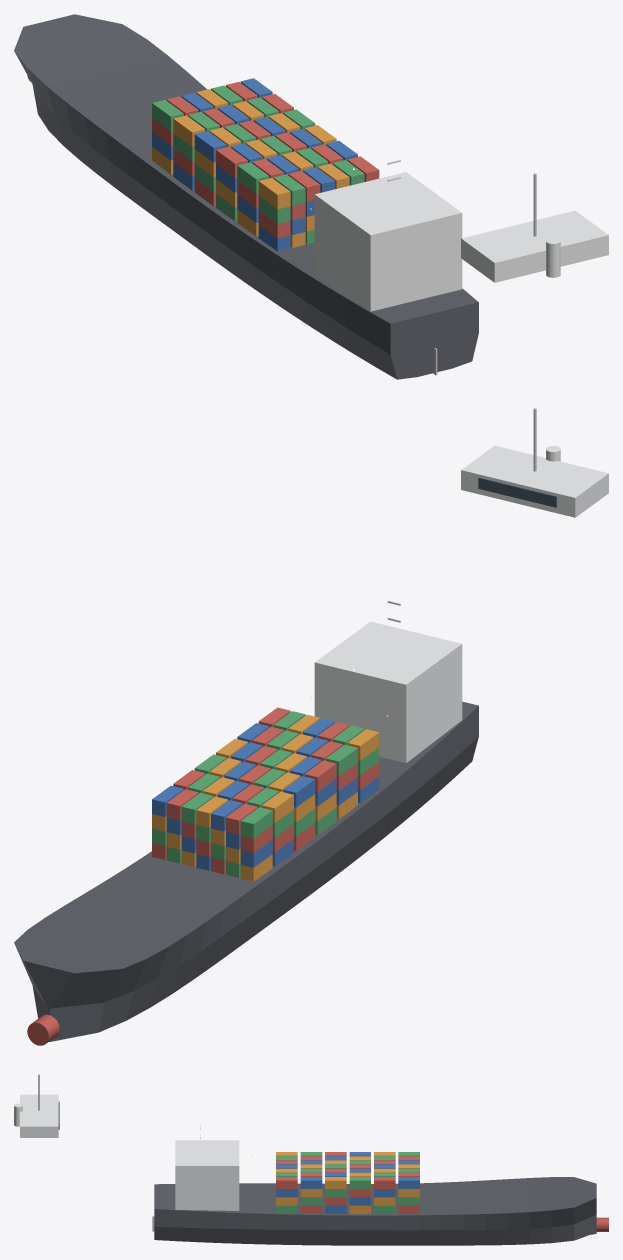
File: container_700teu.glb
3 views of the same model, one above another, from view 1: azimuth 30°, elevation 25°; view 2: azimuth 150°, elevation 25°; view 3: azimuth 270°, elevation 25° (orthographic). The views are drawn at different scales.
Visible parts, largest first — view 1: ship_hull, superstructure_base, bridge_wing, container_b0_s0_t3, container_b1_s0_t3, container_b3_s0_t3, container_b2_s0_t3, container_b4_s0_t3, container_b5_s0_t3, funnel, container_b0_s1_t3, container_b0_s0_t1 (+1 smaller); view 2: ship_hull, superstructure_base, bridge_wing, bridge_windows; view 3: ship_hull, superstructure_base, bridge_wing, container_b1_s6_t3, container_b0_s6_t3, container_b2_s6_t3, container_b3_s6_t3, container_b4_s6_t3, container_b5_s6_t3.
Part boxes in pixels (left/top/right/bottom): ship_hull: left=14, top=14, right=478, bottom=379; superstructure_base: left=314, top=172, right=462, bottom=311; bridge_wing: left=461, top=210, right=608, bottom=282; container_b0_s0_t3: left=258, top=178, right=290, bottom=209; container_b1_s0_t3: left=237, top=162, right=269, bottom=193; container_b3_s0_t3: left=194, top=131, right=226, bottom=162; container_b2_s0_t3: left=216, top=146, right=247, bottom=177; container_b4_s0_t3: left=173, top=115, right=205, bottom=146; container_b5_s0_t3: left=152, top=100, right=183, bottom=131; funnel: left=546, top=237, right=560, bottom=277; container_b0_s1_t3: left=273, top=174, right=305, bottom=205; container_b0_s0_t1: left=258, top=210, right=290, bottom=238; ship_hull: left=14, top=701, right=478, bottom=1041; superstructure_base: left=314, top=621, right=462, bottom=762; bridge_wing: left=461, top=445, right=608, bottom=517; bridge_windows: left=478, top=477, right=556, bottom=507; ship_hull: left=154, top=1177, right=596, bottom=1245; superstructure_base: left=175, top=1140, right=239, bottom=1210; bridge_wing: left=20, top=1094, right=58, bottom=1137; container_b1_s6_t3: left=300, top=1177, right=322, bottom=1188; container_b0_s6_t3: left=276, top=1177, right=297, bottom=1188; container_b2_s6_t3: left=325, top=1177, right=346, bottom=1188; container_b3_s6_t3: left=349, top=1177, right=370, bottom=1188; container_b4_s6_t3: left=374, top=1177, right=395, bottom=1188; container_b5_s6_t3: left=398, top=1177, right=419, bottom=1188.
Size of what is drawn, in the model's own units: 22.68 by 49.2 by 167.
